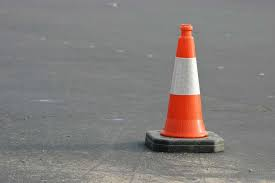obstacle: (138, 19, 232, 157)
